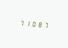eight: (36, 20, 41, 28)
one: (24, 19, 29, 27)
seven: (18, 18, 23, 27), (42, 20, 47, 29)
zero: (30, 19, 35, 28)
